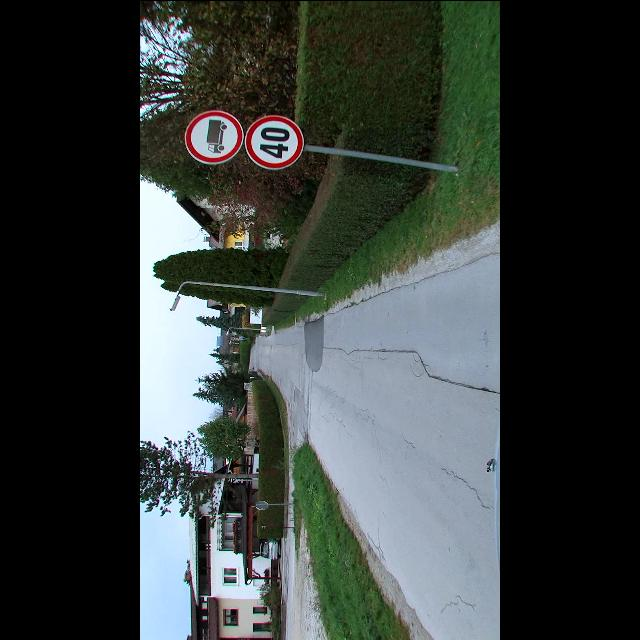Round: (245, 113, 303, 169), (184, 110, 244, 162)
